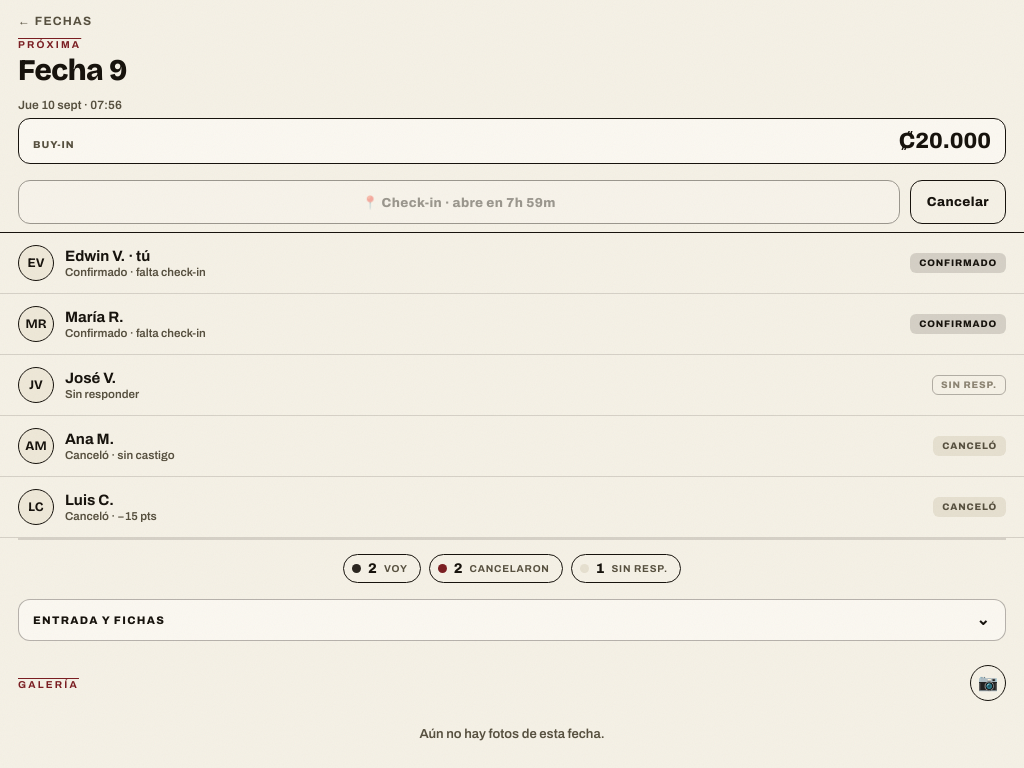
Test: FechaDetail › tapping a player avatar opens the lightbox and does NOT open/fetch the stats popup
The width and height of the screenshot is (1024, 768).
Expected: the heading "Fecha 9" is shown, [18,56,127,85]
Step 1. Click the button with aria-label "Ver foto de María R." → {"x": 36, "y": 324}, box [18,306,54,342]
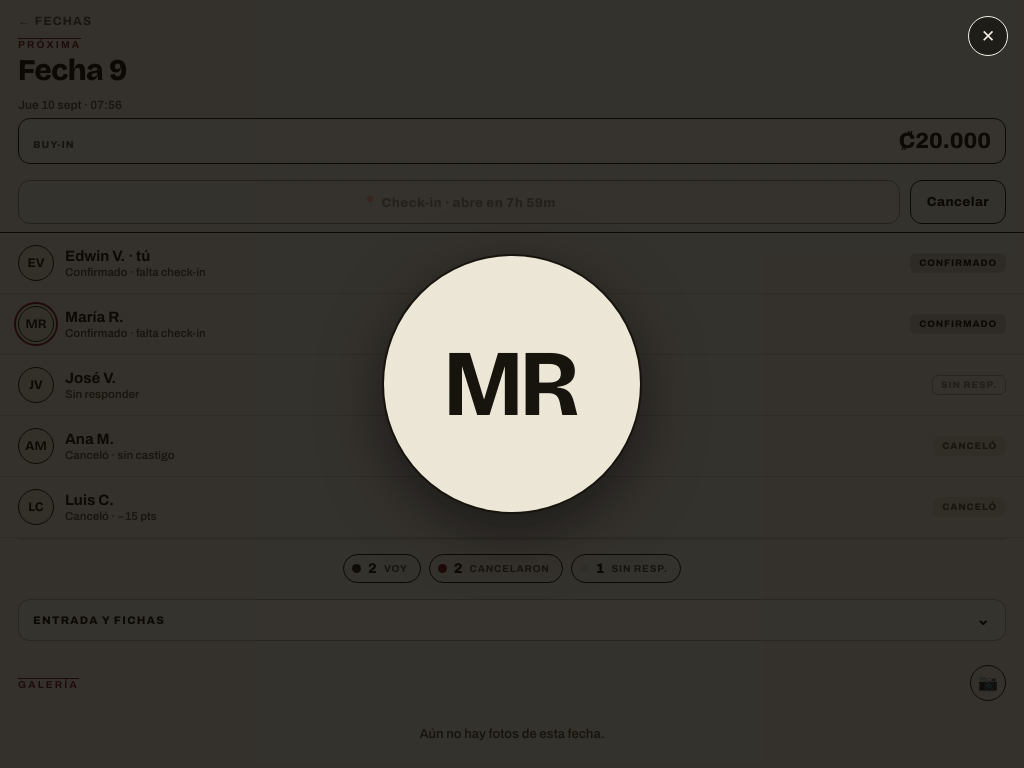
Expected: the dialog named "Foto de María R." is shown
